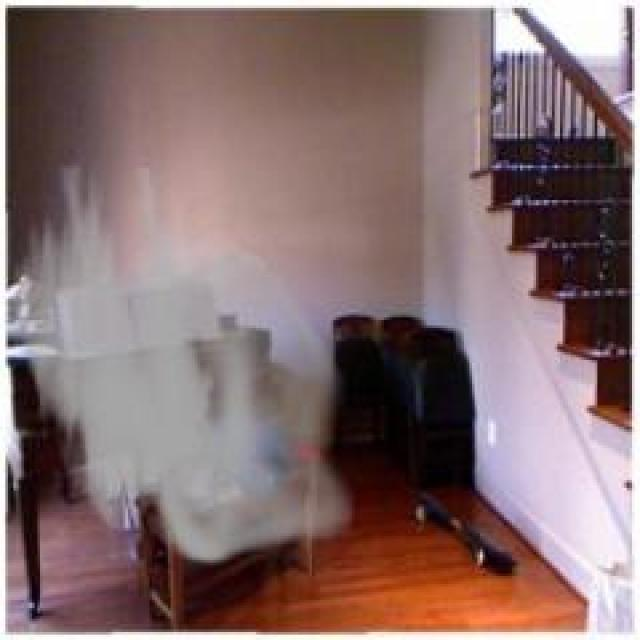Smoke: (14, 162, 362, 572)
